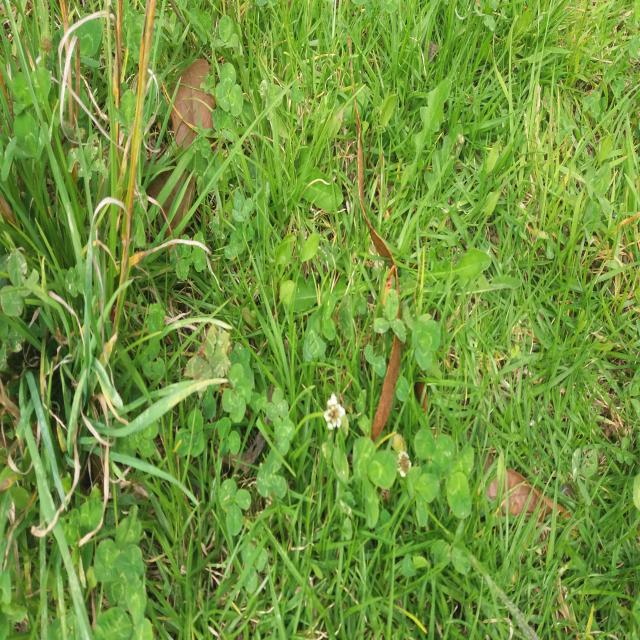Four Leaf Clover: (221, 363, 251, 422)
